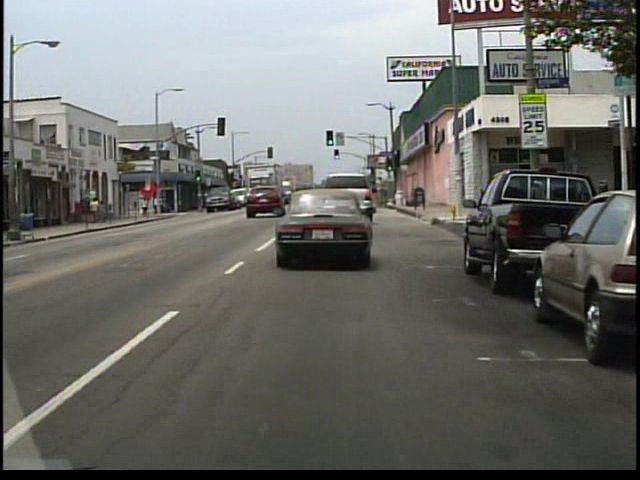person: (92, 197, 102, 224), (100, 200, 108, 224), (142, 197, 150, 218)
